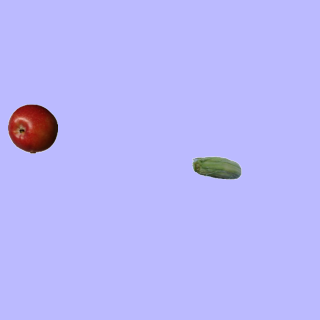Apple Braeburn: (7, 103, 57, 153)
Corn Husk: (191, 144, 241, 194)
